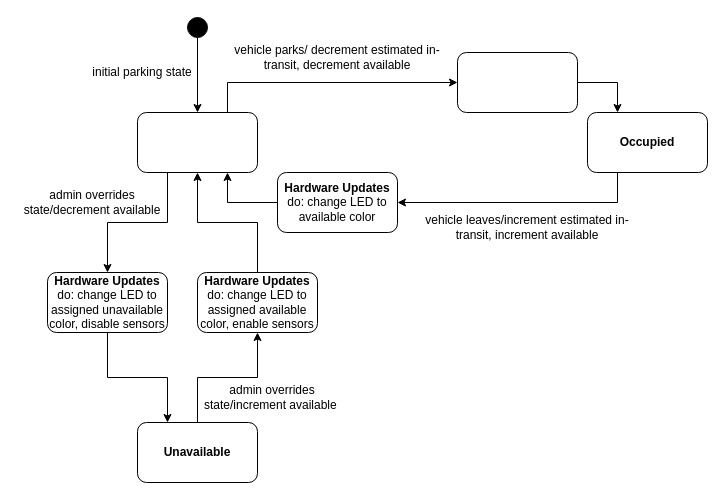
This 725x500 diagram has some shape labels left out. The centre of each missing label's shape, as x and y in pixels:
Available: (x=197, y=142)
Hardware Updates do: change LED to red: (x=517, y=82)
